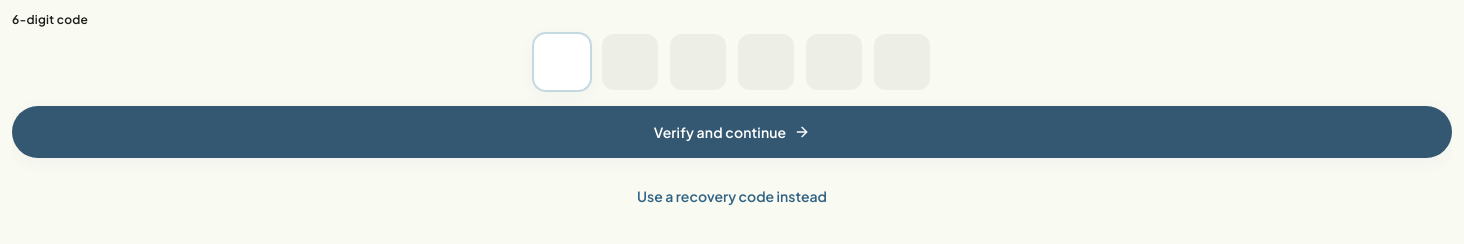
Scenario: TwoFactorForm › reports what the server said about the code
The image size is (1464, 244).
Type "000000" into the field named "Digit 1".
click(562, 62); type("000000")  # box top-left (534, 34), bottom-right (590, 90)
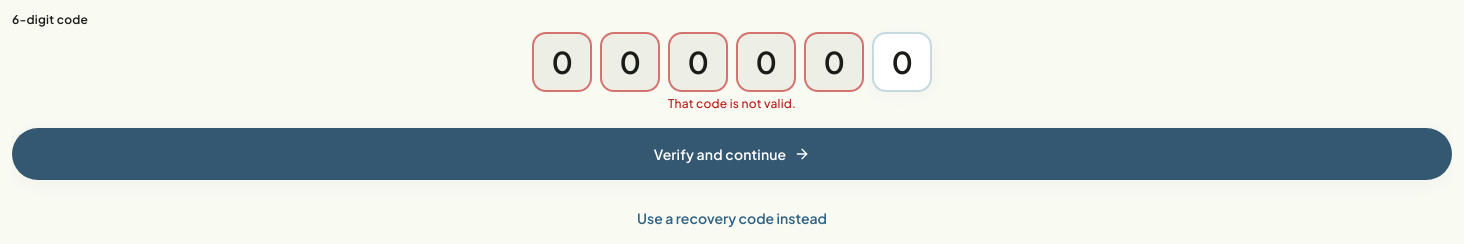
Now the text "That code is not valid." is shown, box top-left (668, 96), bottom-right (796, 111)
